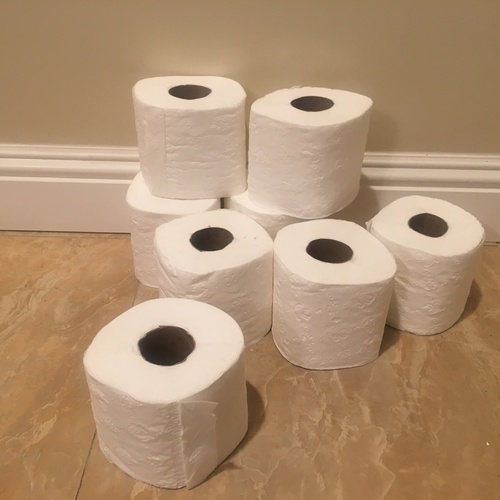roll: (83, 296, 251, 489), (269, 217, 397, 369), (366, 194, 483, 337), (249, 85, 370, 220), (151, 209, 275, 340), (130, 76, 246, 201), (125, 168, 222, 285)
